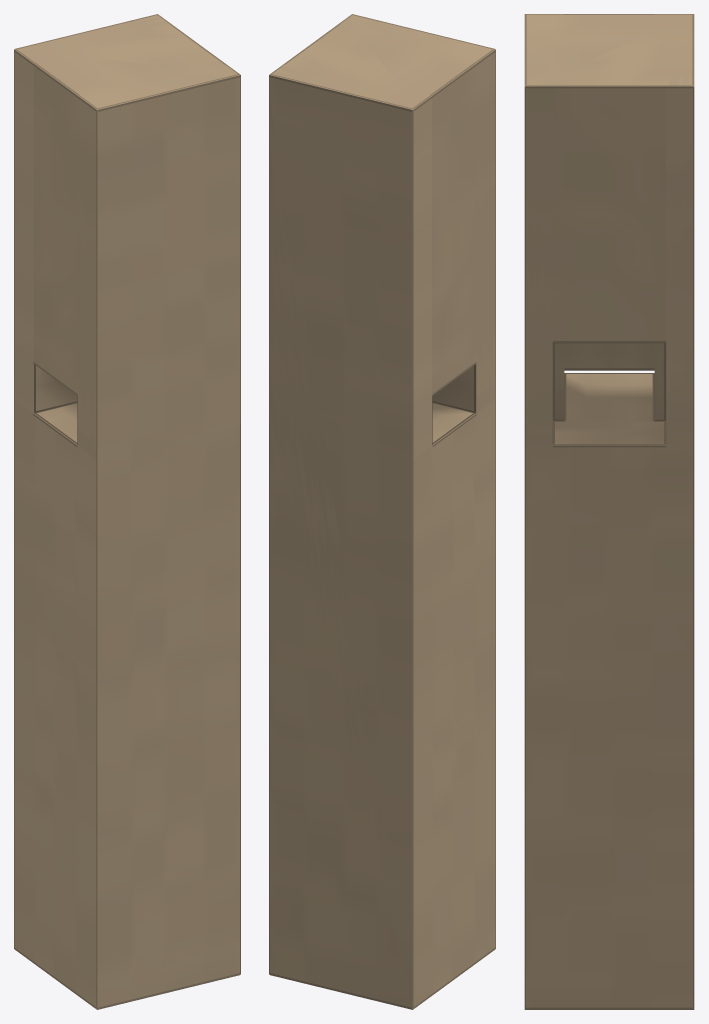
3 renders of one model, left to right at view 1: azimuth 30°, elevation 25°; view 2: azimuth 150°, elevation 25°; view 3: azimuth 270°, elevation 25°, orthographic. The views are drawn at different scales.
Parts seen in each view (by area): view 1: part-a; view 2: part-a; view 3: part-a.
Part boxes in pixels (left/top/right/bottom): part-a: left=14, top=14, right=240, bottom=1009; part-a: left=269, top=14, right=495, bottom=1009; part-a: left=524, top=14, right=694, bottom=1009.
Bounding box in the file's own units: 0.1208 × 0.7208 × 0.1208.
